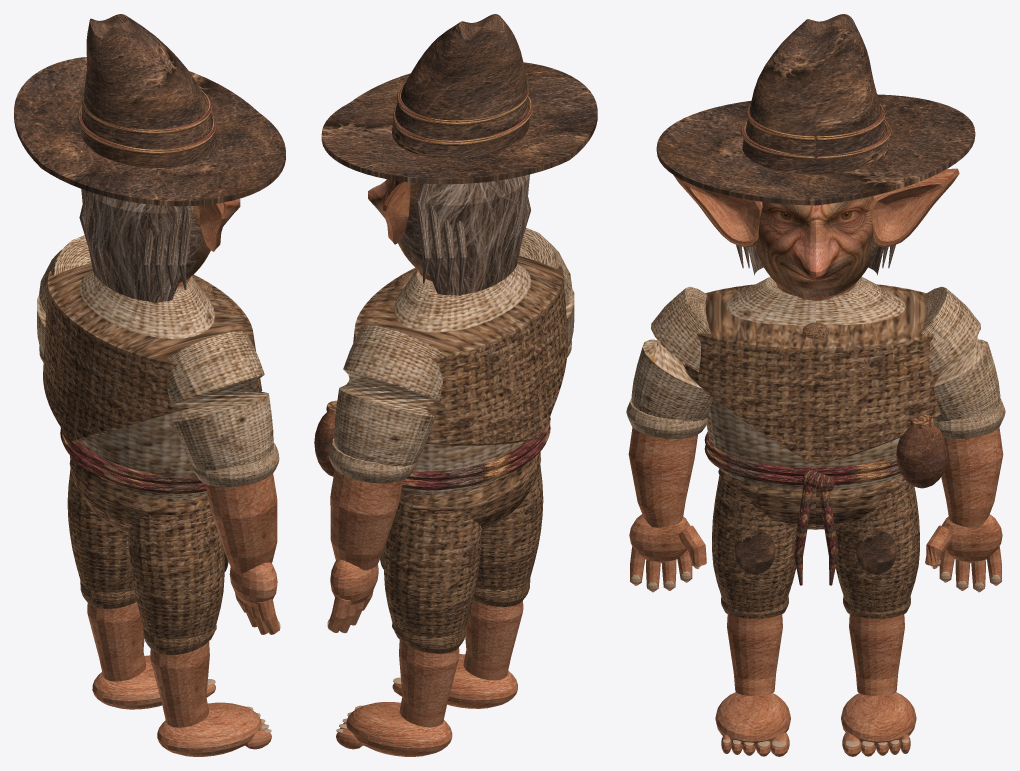
File: mikilo.obj
The picture shows the model from 3 angles, left to right: view 1: azimuth 30°, elevation 25°; view 2: azimuth 150°, elevation 25°; view 3: azimuth 270°, elevation 25°; orthographic projection. The views are drawn at different scales.
Parts seen in each view (by area): view 1: hat_felt, shoulder_cloth_burlap, right_upper_linen, right_thigh_burlap, torso_linen, hair_hair, right_fore_bodyhair, left_thigh_burlap, right_shin_bodyhair, pelvis_burlap, right_foot_bodyhair, left_shin_bodyhair (+10 smaller); view 2: hat_felt, shoulder_cloth_burlap, left_upper_linen, hair_hair, left_thigh_burlap, torso_linen, left_fore_bodyhair, right_thigh_burlap, pelvis_burlap, left_shin_bodyhair, left_foot_bodyhair, right_shin_bodyhair (+11 smaller); view 3: hat_felt, shoulder_cloth_burlap, torso_linen, head_face, right_upper_linen, left_upper_linen, right_thigh_burlap, left_thigh_burlap, head_skin, belt_belt, right_fore_bodyhair, left_fore_bodyhair (+16 smaller).
Part boxes in pixels (bbox=[...]): hat_felt: bbox=[14, 14, 285, 206]; shoulder_cloth_burlap: bbox=[43, 263, 262, 443]; right_upper_linen: bbox=[166, 331, 273, 470]; right_thigh_burlap: bbox=[128, 508, 224, 639]; torso_linen: bbox=[79, 271, 214, 498]; hair_hair: bbox=[79, 189, 193, 302]; right_fore_bodyhair: bbox=[205, 473, 277, 572]; left_thigh_burlap: bbox=[67, 469, 133, 592]; right_shin_bodyhair: bbox=[150, 641, 209, 727]; pelvis_burlap: bbox=[69, 456, 209, 533]; right_foot_bodyhair: bbox=[157, 702, 261, 756]; left_shin_bodyhair: bbox=[87, 602, 145, 681]; hat_felt: bbox=[321, 14, 597, 184]; shoulder_cloth_burlap: bbox=[349, 256, 567, 445]; left_upper_linen: bbox=[334, 325, 442, 466]; hair_hair: bbox=[415, 174, 530, 295]; left_thigh_burlap: bbox=[384, 504, 481, 637]; torso_linen: bbox=[393, 264, 531, 495]; left_fore_bodyhair: bbox=[330, 469, 403, 570]; right_thigh_burlap: bbox=[476, 464, 543, 590]; pelvis_burlap: bbox=[398, 452, 540, 530]; left_shin_bodyhair: bbox=[399, 640, 459, 727]; left_foot_bodyhair: bbox=[346, 702, 452, 756]; right_shin_bodyhair: bbox=[463, 599, 523, 680]; hat_felt: bbox=[656, 14, 975, 205]; shoulder_cloth_burlap: bbox=[683, 284, 943, 465]; torso_linen: bbox=[706, 276, 905, 490]; head_face: bbox=[755, 197, 876, 297]; right_upper_linen: bbox=[631, 286, 713, 421]; left_upper_linen: bbox=[920, 286, 1000, 421]; right_thigh_burlap: bbox=[712, 475, 796, 618]; left_thigh_burlap: bbox=[835, 483, 919, 618]; head_skin: bbox=[673, 168, 959, 247]; belt_belt: bbox=[704, 431, 900, 585]; right_fore_bodyhair: bbox=[628, 427, 697, 527]; left_fore_bodyhair: bbox=[941, 427, 1003, 527].
Bounding box in the file's own units: 31.89 × 100 × 49.86.
2 materials, 2 textured.
